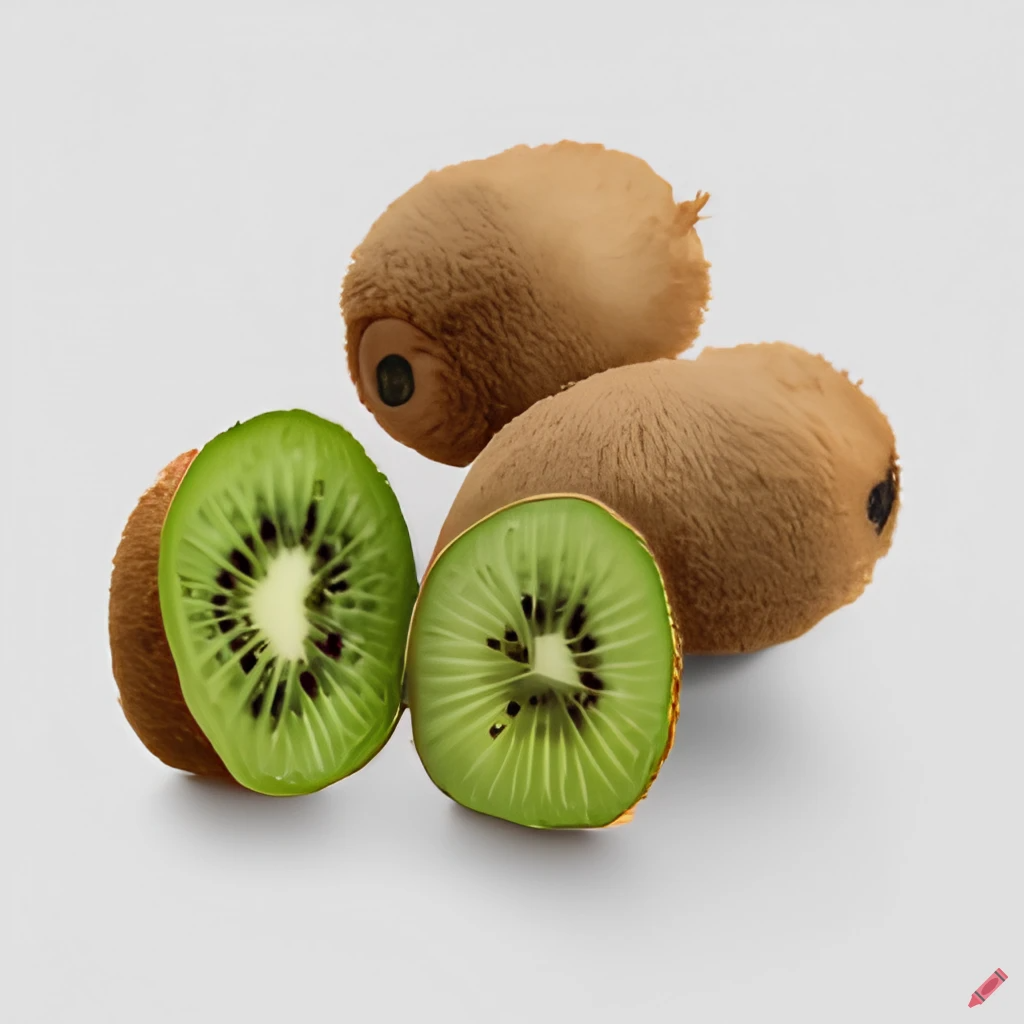Kiwi: (358, 491, 723, 845)
